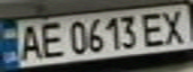0: (66, 17, 87, 55)
1: (103, 15, 124, 52)
3: (118, 12, 142, 50)
6: (84, 16, 106, 54)
A: (15, 21, 45, 62)
E: (136, 9, 172, 47), (36, 19, 66, 60)
X: (157, 7, 193, 45)
